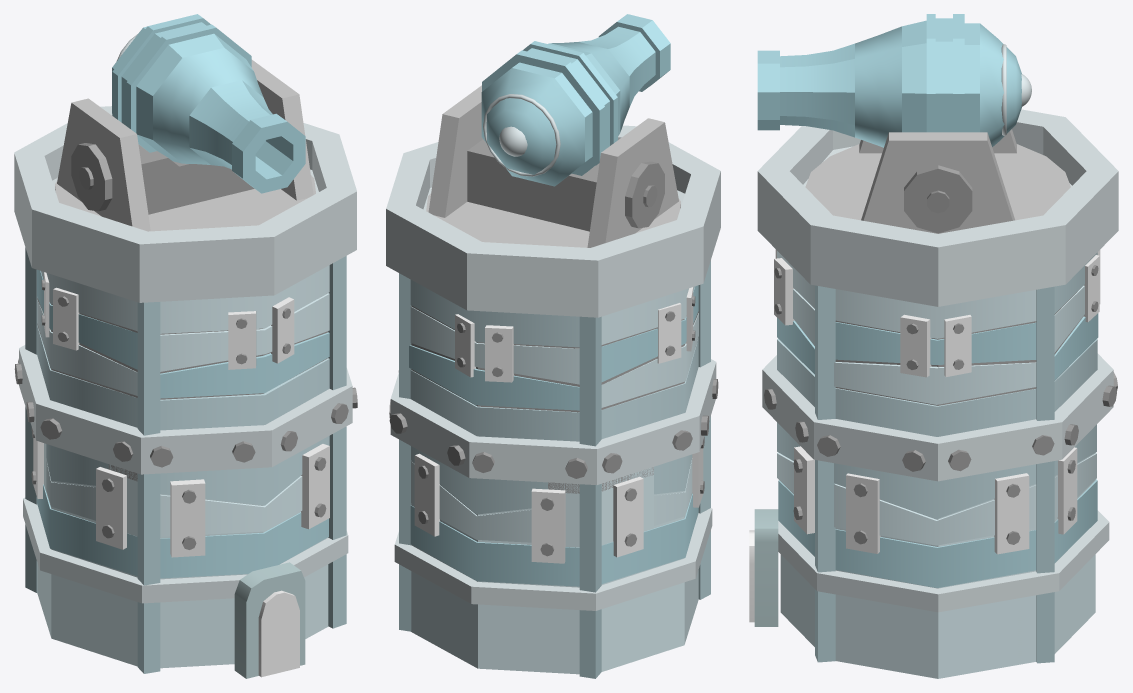
The model's file is CannonTower_3.fbx.
The picture shows the model from 3 angles, left to right: view 1: azimuth 30°, elevation 25°; view 2: azimuth 150°, elevation 25°; view 3: azimuth 270°, elevation 25°; orthographic projection. The views are drawn at different scales.
Parts seen in each view (by area): view 1: polySurface117, polySurface115, polySurface116; view 2: polySurface117, polySurface116, polySurface115; view 3: polySurface117, polySurface115, polySurface116.
Part boxes in pixels (<box>): polySurface117: <box>14,106,357,678</box>; polySurface115: <box>112,14,305,193</box>; polySurface116: <box>55,59,315,231</box>; polySurface117: <box>386,125,720,678</box>; polySurface116: <box>426,85,680,247</box>; polySurface115: <box>481,14,670,186</box>; polySurface117: <box>749,109,1118,678</box>; polySurface115: <box>757,14,1031,147</box>; polySurface116: <box>805,129,1070,233</box>.
Size of the model in its own units: 1.36 by 2.43 by 1.39.
